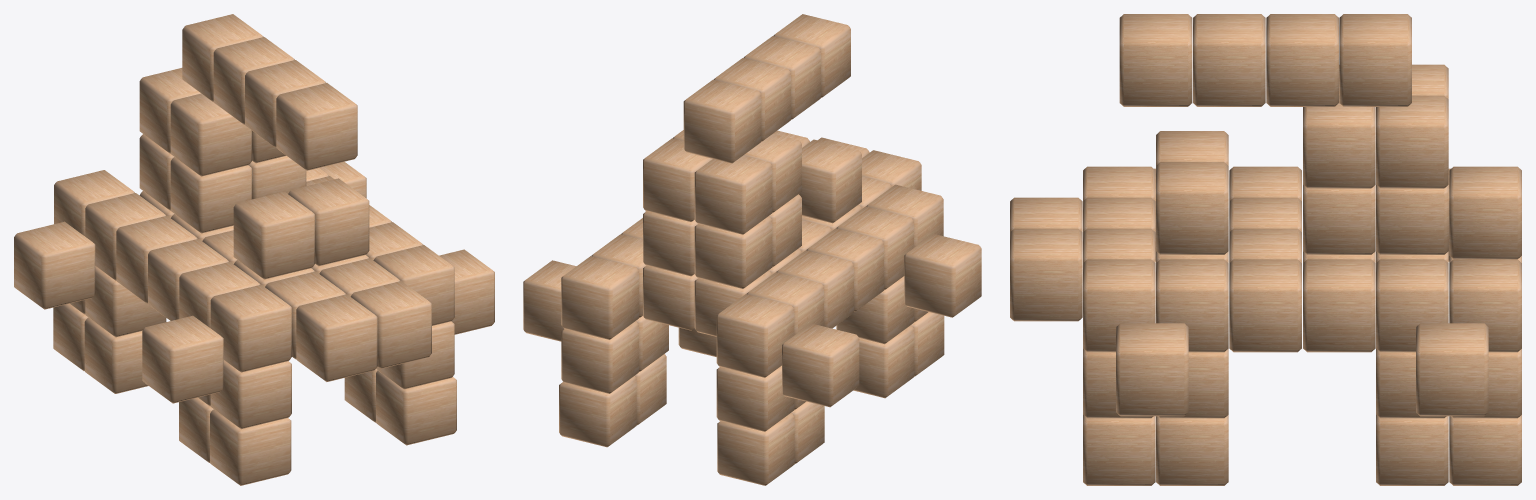
File: level_101.fbx
The picture shows the model from 3 angles, left to right: view 1: azimuth 30°, elevation 25°; view 2: azimuth 150°, elevation 25°; view 3: azimuth 270°, elevation 25°; orthographic projection. The views are drawn at different scales.
Visible parts, largest first — view 1: Cube.046, Cube.050, Cube.048, Cube.033, Cube.031, Cube.016, Cube.041, Cube.053, Cube.049, Cube.047, Cube.051, Cube.037 (+26 smaller); view 2: Cube.043, Cube.031, Cube.033, Cube.025, Cube.042, Cube.028, Cube.050, Cube.038, Cube.058, Cube.027, Cube.056, Cube.030 (+26 smaller); view 3: Cube.046, Cube.032, Cube.002, Cube.003, Cube.028, Cube.034, Cube.047, Cube.043, Cube.044, Cube.045, Cube.049, Cube.040 (+24 smaller).
Part boxes in pixels (x1,y1,x2,y2): Cube.046: (276, 83, 357, 170); Cube.050: (233, 191, 314, 279); Cube.048: (296, 294, 377, 381); Cube.033: (142, 315, 223, 403); Cube.031: (14, 221, 95, 309); Cube.016: (210, 284, 291, 372); Cube.041: (170, 93, 251, 176); Cube.053: (210, 409, 291, 485); Cube.049: (288, 178, 369, 266); Cube.047: (350, 281, 431, 368); Cube.051: (376, 370, 456, 445); Cube.037: (170, 157, 251, 233); Cube.043: (683, 79, 761, 163); Cube.031: (782, 323, 859, 407); Cube.033: (904, 234, 981, 317); Cube.025: (561, 256, 638, 339); Cube.042: (694, 155, 772, 234); Cube.028: (716, 294, 794, 377); Cube.050: (799, 139, 861, 223); Cube.038: (694, 216, 772, 288); Cube.058: (717, 413, 794, 485); Cube.027: (561, 321, 638, 393); Cube.056: (559, 376, 636, 447); Cube.030: (716, 365, 794, 431); Cube.046: (1119, 14, 1192, 106); Cube.032: (1416, 323, 1488, 416); Cube.002: (1229, 259, 1301, 352); Cube.003: (1303, 259, 1375, 352); Cube.028: (1449, 166, 1521, 259); Cube.034: (1116, 323, 1188, 416); Cube.047: (1010, 228, 1082, 321); Cube.043: (1339, 14, 1411, 106); Cube.044: (1266, 14, 1338, 106); Cube.045: (1193, 14, 1265, 106); Cube.049: (1156, 162, 1228, 254); Cube.040: (1376, 95, 1448, 188).
Bounding box in the file's own units: 12.08 × 12.07 × 14.1.
